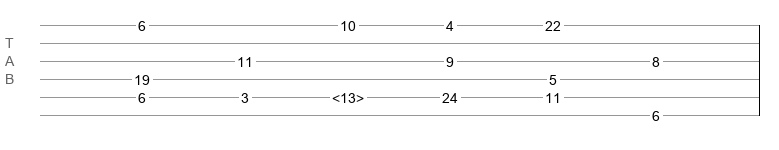10: (340, 18, 356, 28)
11: (237, 54, 253, 64), (545, 90, 561, 100)
19: (134, 72, 150, 82)
22: (545, 18, 561, 28)
24: (442, 90, 458, 100)
3: (241, 90, 249, 100)
4: (446, 18, 454, 28)
5: (549, 72, 557, 82)
6: (138, 18, 146, 28), (138, 90, 146, 100), (652, 108, 660, 118)
8: (652, 54, 660, 64)
9: (446, 54, 454, 64)
harmonic: (332, 90, 364, 100)
